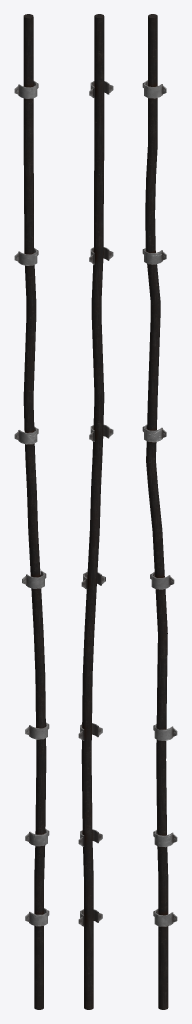
Rendered from Cables01_05.glb.
The picture shows the model from 3 angles, left to right: view 1: azimuth 30°, elevation 25°; view 2: azimuth 210°, elevation 25°; view 3: azimuth 330°, elevation 25°; orthographic projection.
Visible parts, largest first — view 1: Circle_006; view 2: Circle_006; view 3: Circle_006.
Part boxes in pixels (x1,y1,x2,y2): Circle_006: (14, 14, 49, 1009); Circle_006: (78, 14, 113, 1009); Circle_006: (142, 14, 177, 1009).
Bounding box in the file's own units: 0.0969 × 2.7 × 0.0361.
1 material, 1 textured.
